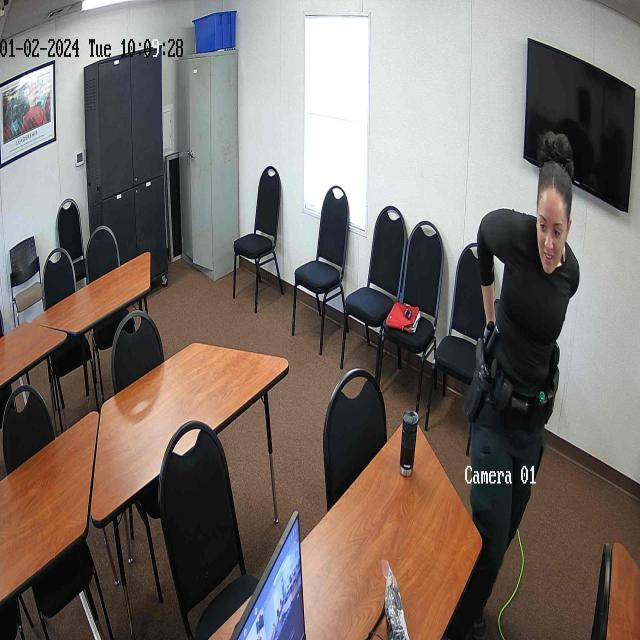weapon: (465, 340, 489, 427)
